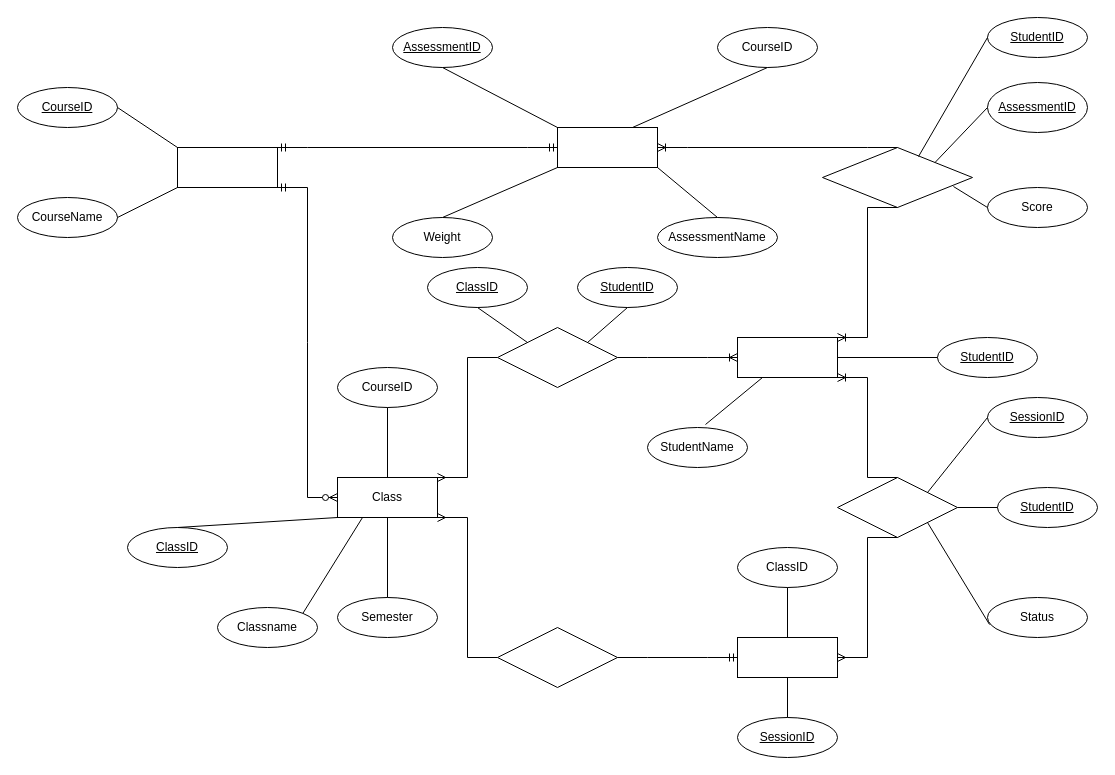
Some shapes in this 1115 by 775 pixel diagram are drawn without their labels. Here are the shapes that lost their labels. From the top down, the box of each, then its label:
(176, 146, 278, 188): Course
(556, 126, 658, 168): Assessment
(822, 146, 972, 208): Student_Assessment
(496, 326, 618, 388): Enroll
(736, 336, 838, 378): Student
(836, 476, 958, 538): Attendance
(496, 626, 618, 688): Study
(736, 636, 838, 678): Session
